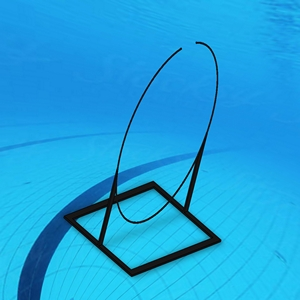circle: (62, 36, 227, 278)
